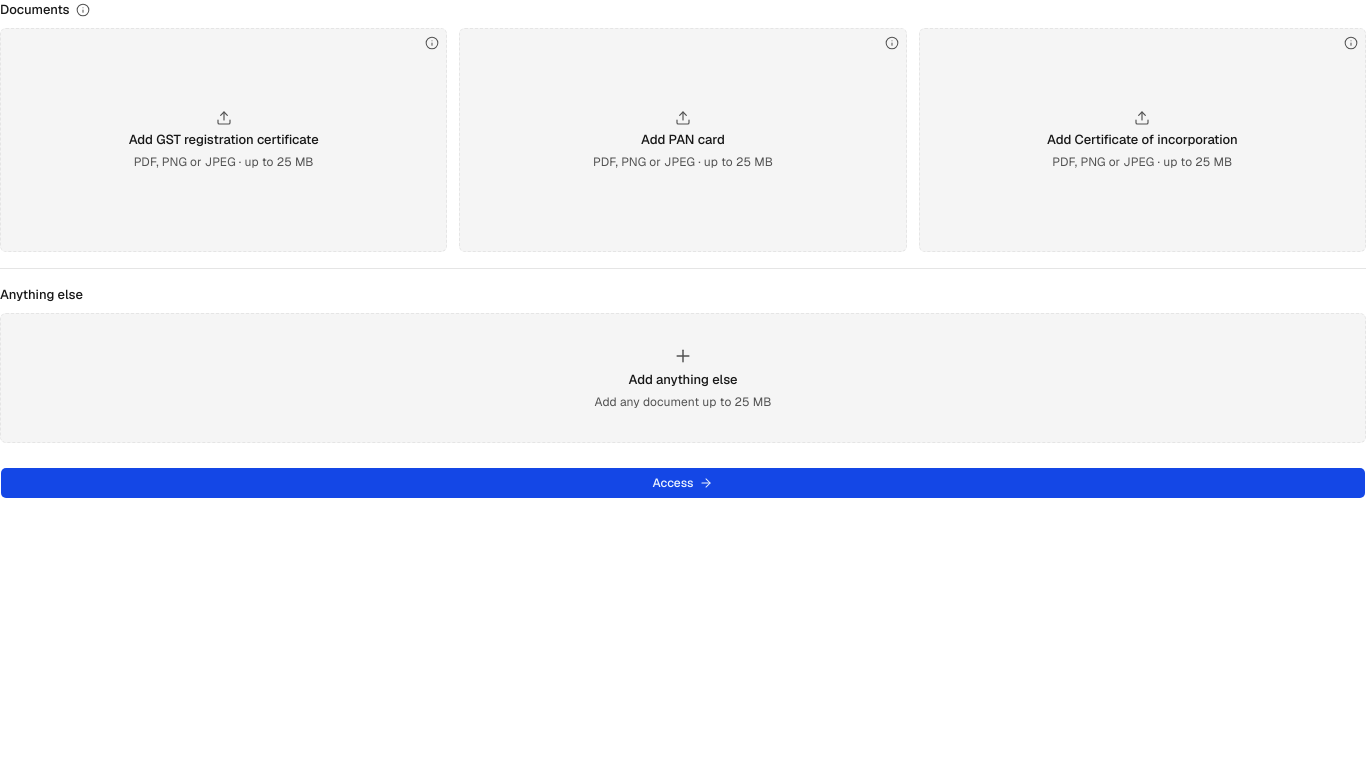
Scenario: the “anything else” picker › the box asks which document it is, rather than opening a file picker
Click the button with aria-label "Drag and drop": (683, 378) [0,313,1365,443]
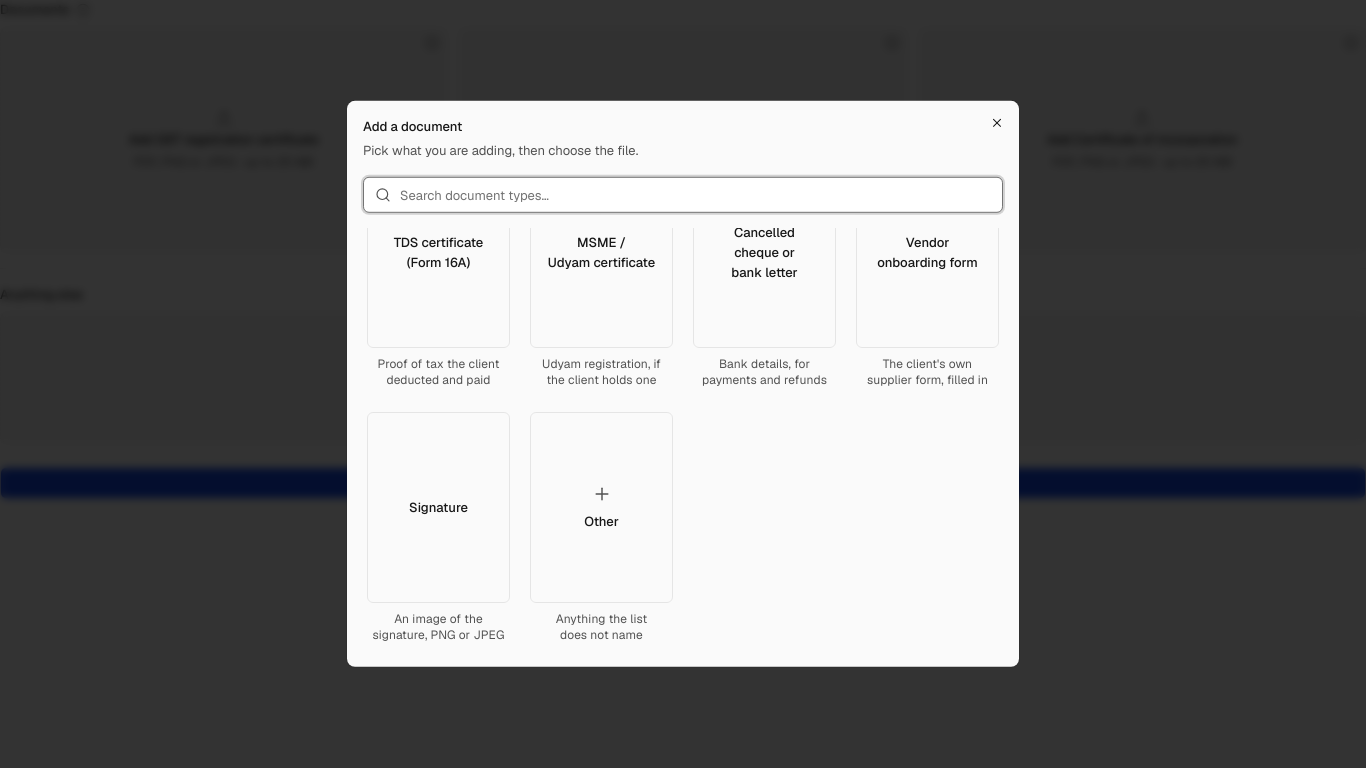
Result: the button "Signature An image of the signature, PNG or JPEG" is shown at [363,408,514,651]
